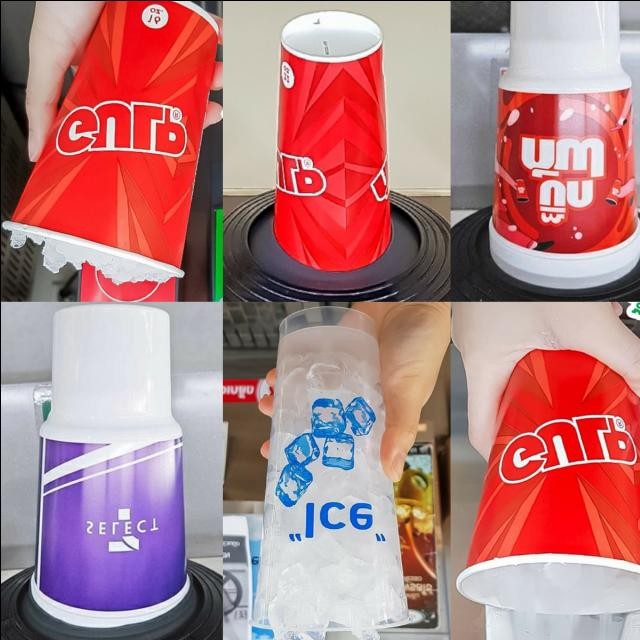plastik: (5, 0, 217, 275), (29, 304, 189, 626), (250, 306, 406, 630), (456, 351, 640, 614), (488, 0, 640, 289), (273, 11, 390, 271)
